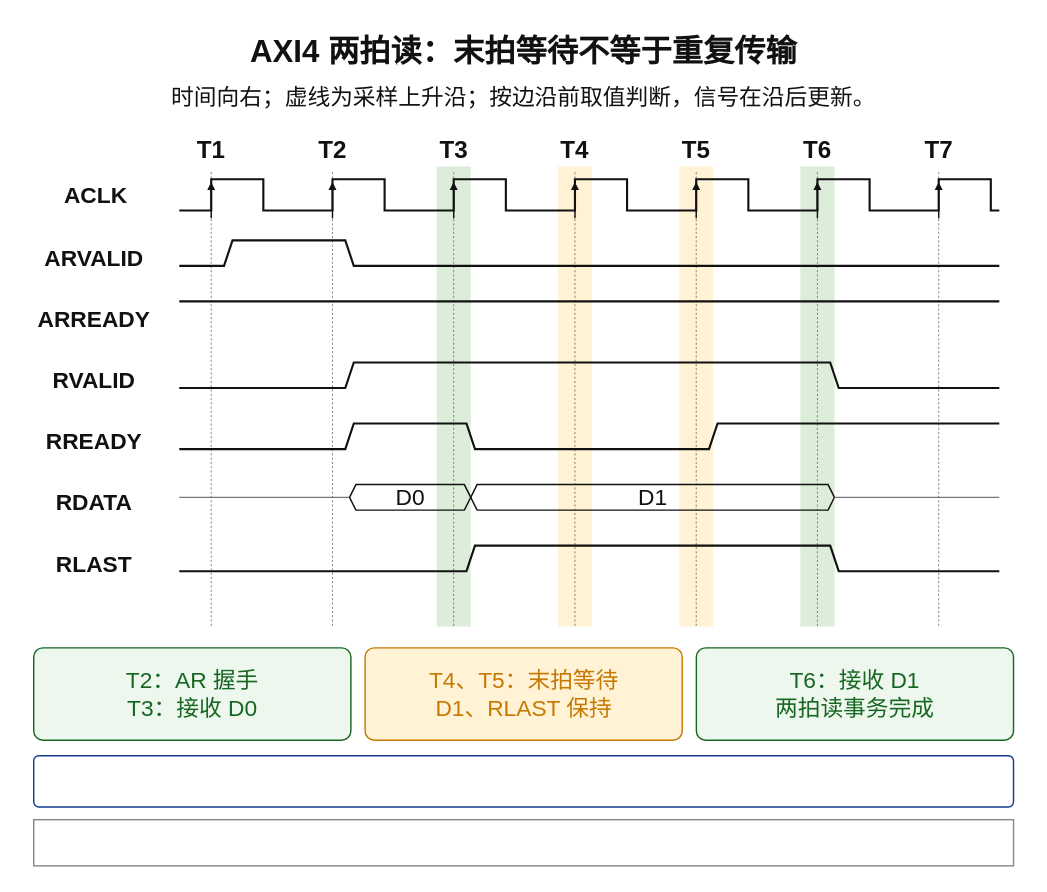
Some shapes in this 1047 by 892 pixel diagram are drawn without their labels. The shapes that lost their labels are listed below. From the top down, each one's box as (x1, y1, x2, y2) in pixels, then its label:
(33, 755, 1014, 807): 读数据在读地址握手后返回；RLAST 随最后一拍成功握手才结束突发。
(33, 819, 1014, 866): 主：ARVALID/RREADY；从：其余；ARLEN=1，ARSIZE=2，INCR，RRESP=OKAY。
